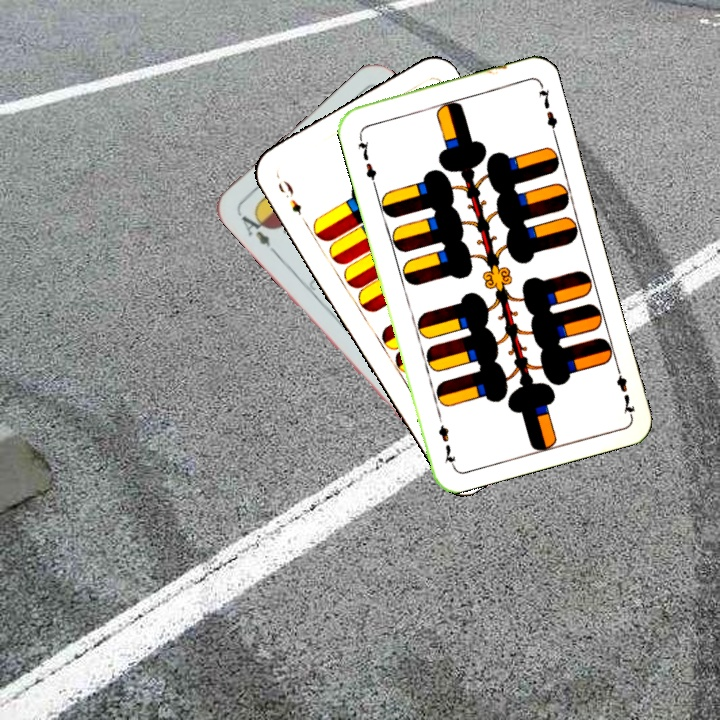E7: (611, 360, 638, 418), (353, 130, 379, 188)
E9: (273, 176, 305, 218)
EA: (234, 207, 279, 256)
